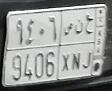0: (34, 26, 46, 81)
4: (24, 18, 34, 80)
6: (46, 14, 59, 79)
9: (11, 17, 23, 83)
J: (82, 15, 96, 69)
N: (72, 19, 85, 71)
X: (59, 23, 73, 71)
